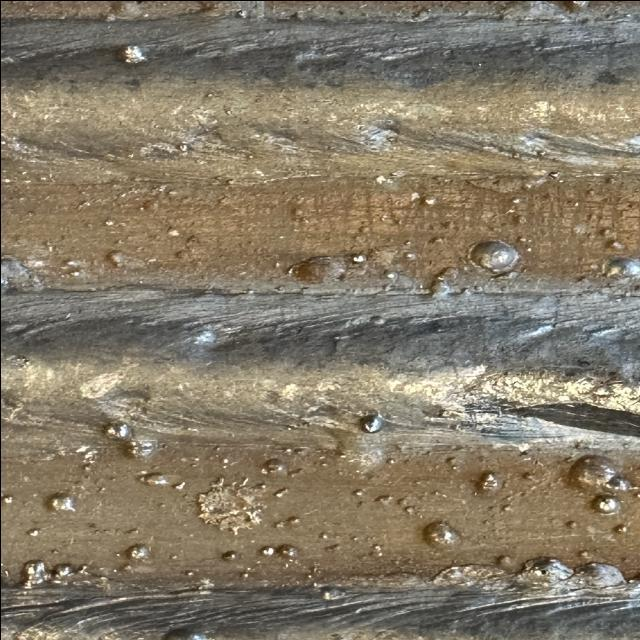Excess Reinforcement: (432, 564, 505, 585), (520, 556, 572, 582), (575, 561, 625, 586), (22, 559, 47, 588), (50, 562, 75, 582)
Spatters: (568, 455, 632, 490), (288, 255, 345, 282), (468, 240, 517, 271), (422, 521, 458, 548), (430, 266, 457, 298), (603, 258, 640, 276), (475, 471, 502, 495), (123, 440, 157, 459), (592, 495, 620, 514), (102, 422, 132, 439), (358, 414, 383, 432), (122, 44, 147, 62), (47, 494, 75, 510), (430, 278, 452, 298), (125, 544, 150, 560), (320, 585, 345, 599), (107, 250, 128, 266), (263, 458, 287, 472), (142, 472, 168, 484), (273, 516, 298, 528), (277, 544, 298, 558), (492, 270, 518, 279), (605, 239, 625, 249), (375, 494, 392, 505), (220, 550, 237, 560), (577, 549, 593, 559), (383, 270, 398, 280), (613, 524, 627, 534), (260, 545, 273, 555), (273, 488, 288, 496), (518, 450, 530, 460), (522, 471, 535, 480), (598, 228, 612, 236), (403, 505, 415, 514), (372, 544, 381, 555), (565, 520, 577, 528), (423, 196, 435, 204), (352, 254, 365, 261), (405, 251, 415, 259), (445, 456, 455, 464), (167, 228, 178, 235), (27, 528, 38, 535), (67, 259, 79, 265), (173, 481, 182, 489), (318, 531, 328, 538), (430, 236, 443, 241), (352, 489, 362, 495), (68, 270, 80, 275), (385, 458, 395, 464), (518, 236, 525, 241), (318, 461, 326, 465)
